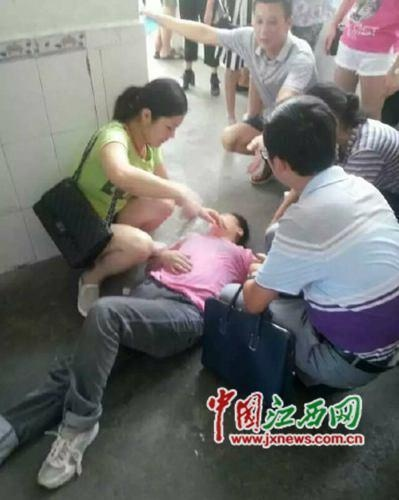falling: (0, 179, 268, 494)
